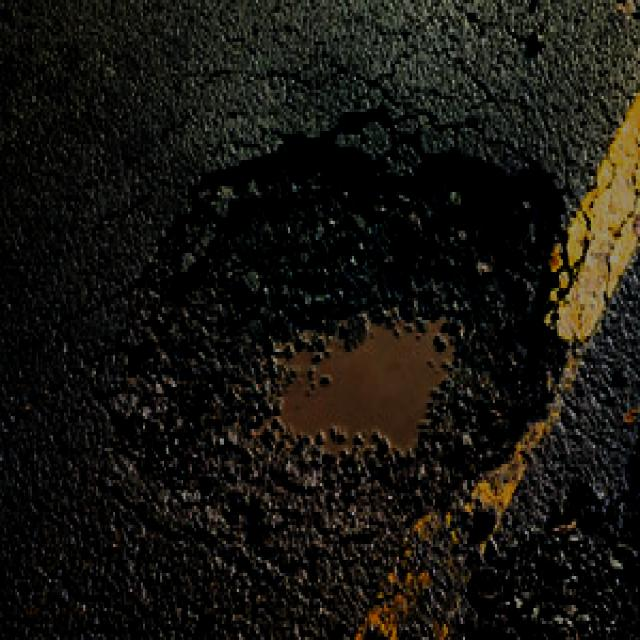Pothole: (112, 101, 566, 532)
